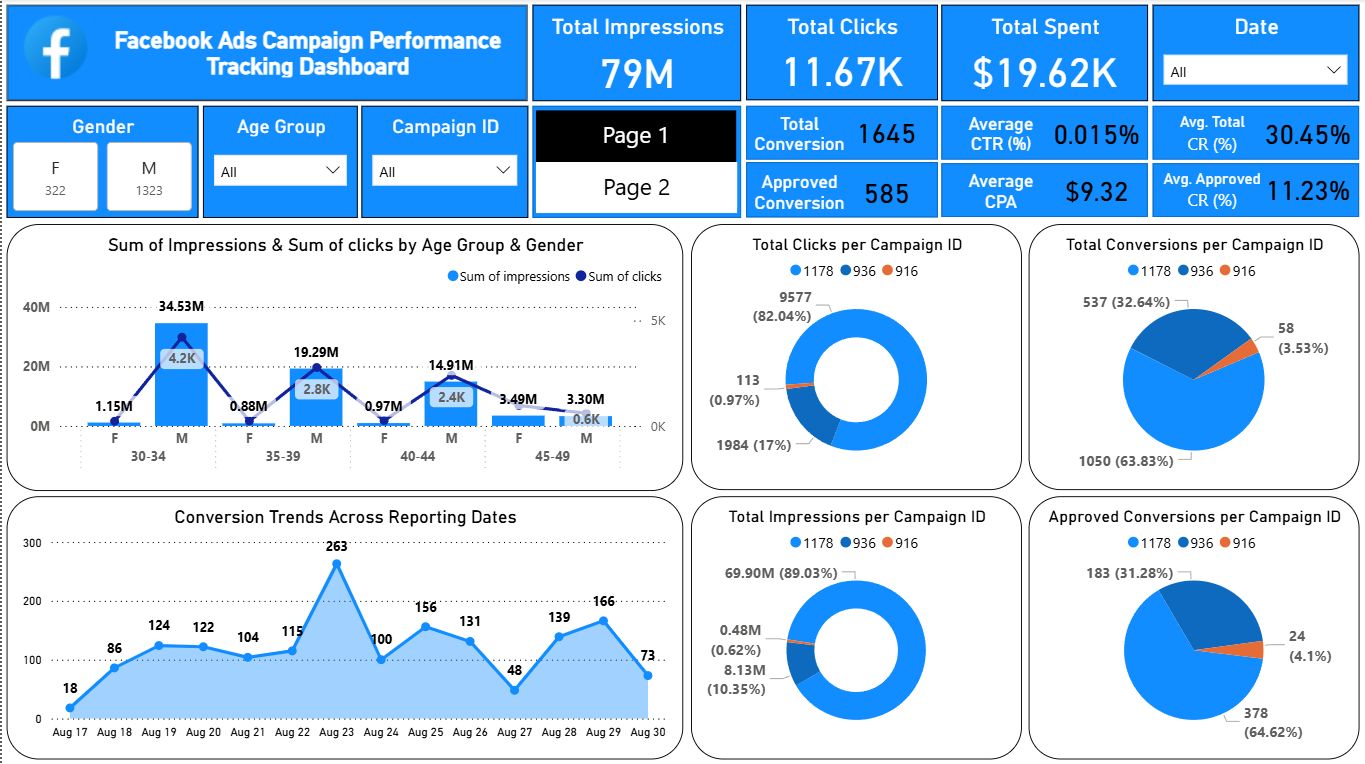

The page's visual inventory and layout, read from the dashboard file:
{"tool":"powerbi","page":{"name":"Page 1","canvas":[1280,720],"ordinal":0},"visuals":[{"type":"shape","box":[4.3,5.4,489.8,90.6],"z":0},{"type":"image","box":[8.6,4.3,83.1,82],"z":1000},{"type":"textbox","box":[66.9,11.9,448.8,66.9],"z":2000},{"type":"card","title":"Total Impressions","fields":{"Values":["Sum(data.impressions)"]},"box":[498.4,5.4,196.3,90.6],"z":3000},{"type":"lineChart","title":"Conversion Trends Across Reporting Dates","fields":{"Category":["data.DateLabel"],"Y":["Sum(data.total_conversion)"]},"box":[4.3,467.1,635.4,247.1],"z":4000},{"type":"card","title":"Total Spent","fields":{"Values":["Sum(data.spent)"]},"box":[882.5,5.4,194.2,90.6],"z":5000},{"type":"lineClusteredColumnComboChart","title":"Sum of Impressions & Sum of clicks by Age Group & Gender","fields":{"Y":["Sum(data.impressions)"],"Y2":["Sum(data.clicks)"],"Category":["data.age_group","data.gender"]},"box":[4.3,211.5,635.4,251],"z":6000},{"type":"advancedSlicerVisual","title":"Gender","fields":{"Label":["Sum(data.total_conversion)"],"Values":["data.gender"]},"box":[4.3,100.3,180.2,105.7],"z":7000},{"type":"slicer","title":"Age Group","fields":{"Values":["data.age_group"]},"box":[188.8,100.3,145.6,105.7],"z":8000},{"type":"slicer","title":"Campaign  ID","fields":{"Values":["data.campaign_id"]},"box":[337.5,100.5,156.8,105.3],"z":9000},{"type":"shape","box":[497.9,100.5,196.3,105.3],"z":10000},{"type":"actionButton","box":[501.5,104.1,187.9,49],"z":11000},{"type":"actionButton","box":[501.5,153.2,189.1,47.9],"z":12000},{"type":"slicer","title":"Date","fields":{"Values":["data.DateLabel"]},"box":[1081,5.4,194,90.6],"z":13000},{"type":"card","title":"Total Clicks","fields":{"Values":["Sum(data.clicks)"]},"box":[699,5,180,90],"z":14000},{"type":"shape","box":[882.5,100.3,194.2,50.7],"z":15000},{"type":"shape","box":[882.5,154.3,194,50.7],"z":16000},{"type":"shape","box":[1081,154.3,194,50.7],"z":17000},{"type":"shape","box":[1081,100,194,50.7],"z":18000},{"type":"textbox","box":[882.5,100.3,112,50],"z":19000},{"type":"card","title":"Avg. CTR (%)","fields":{"Values":["Avg(data.CTR)"]},"box":[979.6,100.3,97.1,50.7],"z":20000},{"type":"textbox","box":[882.5,154.3,112.2,50.7],"z":21000},{"type":"card","title":"Avg. CTR (%)","fields":{"Values":["Avg(data.CPA)"]},"box":[979.6,154.3,97.1,50.7],"z":22000},{"type":"textbox","box":[1081,154,112,50],"z":23000},{"type":"card","title":"Avg. CTR (%)","fields":{"Values":["Avg(data.CR%)"]},"box":[1178.1,153.2,97.1,50.7],"z":24000},{"type":"textbox","box":[1081,100.3,111.1,51],"z":25000},{"type":"textbox","box":[1081,101.4,112.2,49.6],"z":26000},{"type":"card","title":"Avg. CTR (%)","fields":{"Values":["Avg(data.Total CR%)"]},"box":[1178.1,100.3,97.1,50.7],"z":27000},{"type":"donutChart","title":"Total Clicks per Campaign ID","fields":{"Category":["data.campaign_id"],"Y":["Sum(data.clicks)"]},"box":[647,211.5,311,250.3],"z":28000},{"type":"pieChart","title":"Total Conversions per Campaign ID","fields":{"Category":["data.campaign_id"],"Y":["Sum(data.total_conversion)"]},"box":[964.5,211.5,310.7,250.3],"z":29000},{"type":"pieChart","title":"Approved Conversions per Campaign ID","fields":{"Category":["data.campaign_id"],"Y":["Sum(data.approved_conversion)"]},"box":[964.5,467.1,310.7,247.1],"z":30000},{"type":"donutChart","title":"Total Impressions per Campaign ID","fields":{"Category":["data.campaign_id"],"Y":["Sum(data.impressions)"]},"box":[647.3,467.1,310.7,247.1],"z":31000},{"type":"shape","box":[699.1,100.3,180.2,50.7],"z":32000},{"type":"shape","box":[699,153,180.2,52],"z":33000},{"type":"textbox","box":[699.1,100.3,100.3,50.7],"z":34000},{"type":"card","title":"Avg. CTR (%)","fields":{"Values":["Sum(data.total_conversion)"]},"box":[782.2,99,97.1,50.7],"z":35000},{"type":"textbox","box":[699.1,155.4,100.3,50.7],"z":36000},{"type":"card","title":"Avg. CTR (%)","fields":{"Values":["Sum(data.approved_conversion)"]},"box":[782.2,156.4,97.1,50.7],"z":37000}]}

Visuals, with their boxes in screenshot pixels (x1, y1, x2, y2), scaled from the page's 1280x720 canvas onto the 1365x764 screenshot:
shape: bbox=(5, 6, 527, 102)
image: bbox=(9, 5, 98, 92)
textbox: bbox=(71, 13, 550, 84)
"Total Impressions" card: bbox=(531, 6, 741, 102)
"Conversion Trends Across Reporting Dates" lineChart: bbox=(5, 496, 682, 758)
"Total Spent" card: bbox=(941, 6, 1148, 102)
"Sum of Impressions & Sum of clicks by Age Group & Gender" lineClusteredColumnComboChart: bbox=(5, 224, 682, 491)
"Gender" advancedSlicerVisual: bbox=(5, 106, 197, 219)
"Age Group" slicer: bbox=(201, 106, 357, 219)
"Campaign  ID" slicer: bbox=(360, 107, 527, 218)
shape: bbox=(531, 107, 740, 218)
actionButton: bbox=(535, 110, 735, 162)
actionButton: bbox=(535, 163, 736, 213)
"Date" slicer: bbox=(1153, 6, 1360, 102)
"Total Clicks" card: bbox=(745, 5, 937, 101)
shape: bbox=(941, 106, 1148, 160)
shape: bbox=(941, 164, 1148, 218)
shape: bbox=(1153, 164, 1360, 218)
shape: bbox=(1153, 106, 1360, 160)
textbox: bbox=(941, 106, 1061, 159)
"Avg. CTR (%)" card: bbox=(1045, 106, 1148, 160)
textbox: bbox=(941, 164, 1061, 218)
"Avg. CTR (%)" card: bbox=(1045, 164, 1148, 218)
textbox: bbox=(1153, 163, 1272, 216)
"Avg. CTR (%)" card: bbox=(1256, 163, 1360, 216)
textbox: bbox=(1153, 106, 1271, 161)
textbox: bbox=(1153, 108, 1272, 160)
"Avg. CTR (%)" card: bbox=(1256, 106, 1360, 160)
"Total Clicks per Campaign ID" donutChart: bbox=(690, 224, 1022, 490)
"Total Conversions per Campaign ID" pieChart: bbox=(1029, 224, 1360, 490)
"Approved Conversions per Campaign ID" pieChart: bbox=(1029, 496, 1360, 758)
"Total Impressions per Campaign ID" donutChart: bbox=(690, 496, 1022, 758)
shape: bbox=(746, 106, 938, 160)
shape: bbox=(745, 162, 938, 218)
textbox: bbox=(746, 106, 852, 160)
"Avg. CTR (%)" card: bbox=(834, 105, 938, 159)
textbox: bbox=(746, 165, 852, 219)
"Avg. CTR (%)" card: bbox=(834, 166, 938, 220)
